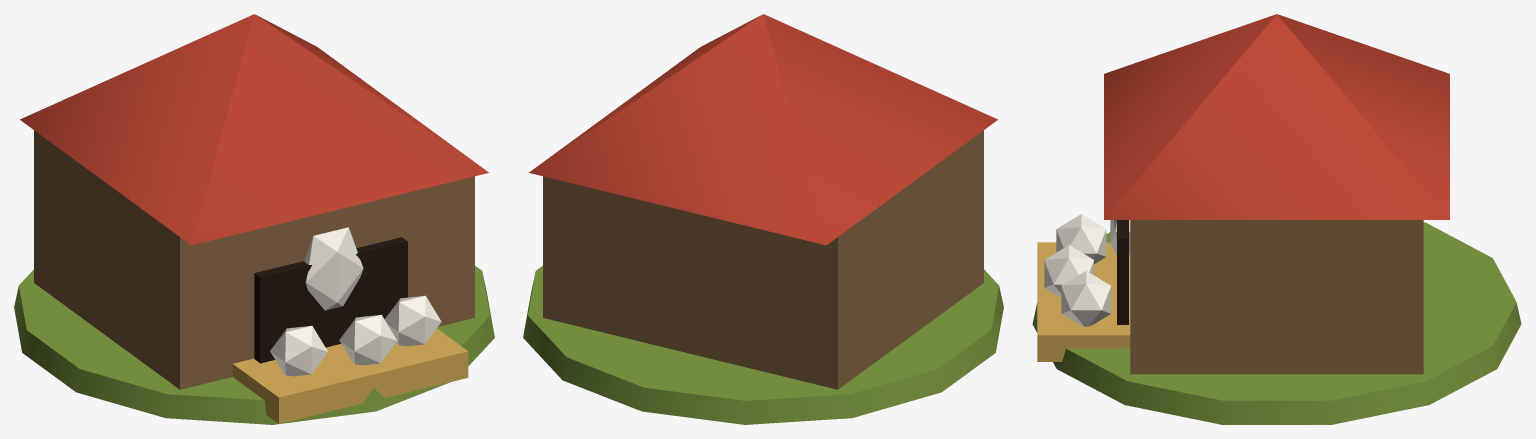
Rendered from level1.glb.
3 views of the same model, side by side, from view 1: azimuth 30°, elevation 25°; view 2: azimuth 150°, elevation 25°; view 3: azimuth 270°, elevation 25° (orthographic).
Size of the model in its own units: 1.95 by 1.4 by 2.
